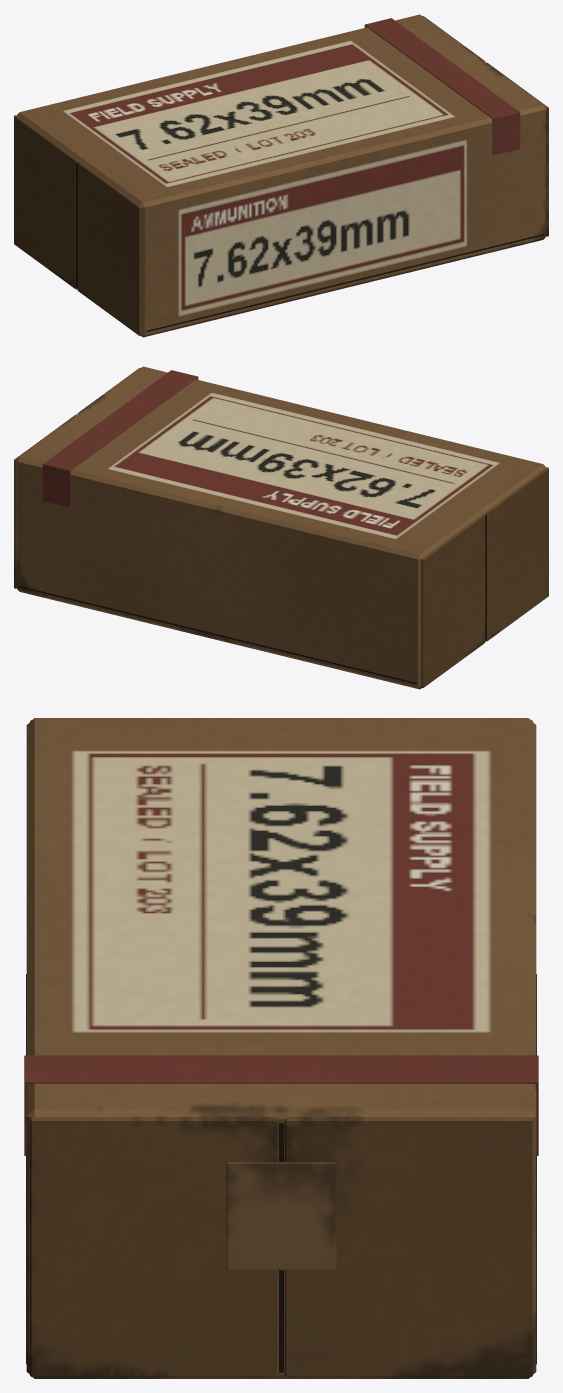
Rendered from ammo_762x39.glb.
3 views of the same model, one above another, from view 1: azimuth 30°, elevation 25°; view 2: azimuth 150°, elevation 25°; view 3: azimuth 270°, elevation 25° (orthographic). The views are drawn at different scales.
Parts seen in each view (by area): view 1: ammo_762x39_Mesh; view 2: ammo_762x39_Mesh; view 3: ammo_762x39_Mesh.
Part boxes in pixels (box(x1,y1,x2,y2)): ammo_762x39_Mesh: box(14, 14, 548, 337); ammo_762x39_Mesh: box(14, 366, 548, 689); ammo_762x39_Mesh: box(24, 718, 538, 1378).
Size of what is drawn, in the model's own units: 0.121 by 0.0383 by 0.0656.
Materials: 1 (1 with a texture image).
